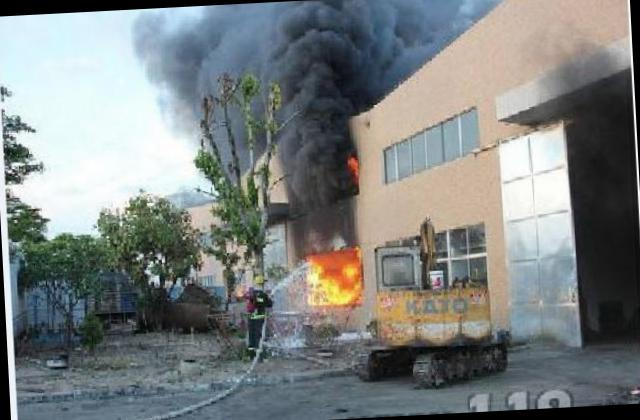fire: (300, 247, 362, 307), (346, 152, 359, 182)
smoke: (106, 0, 373, 118), (146, 112, 280, 189), (278, 107, 348, 244), (358, 0, 476, 26), (369, 22, 443, 46), (370, 49, 420, 75)
